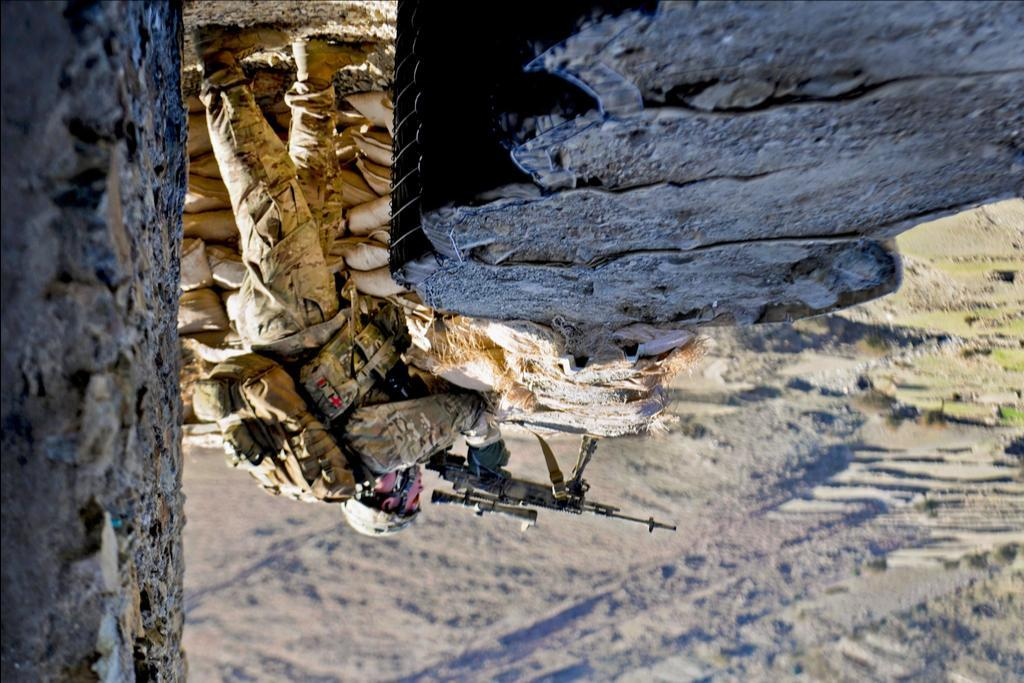gun: (420, 435, 680, 539)
